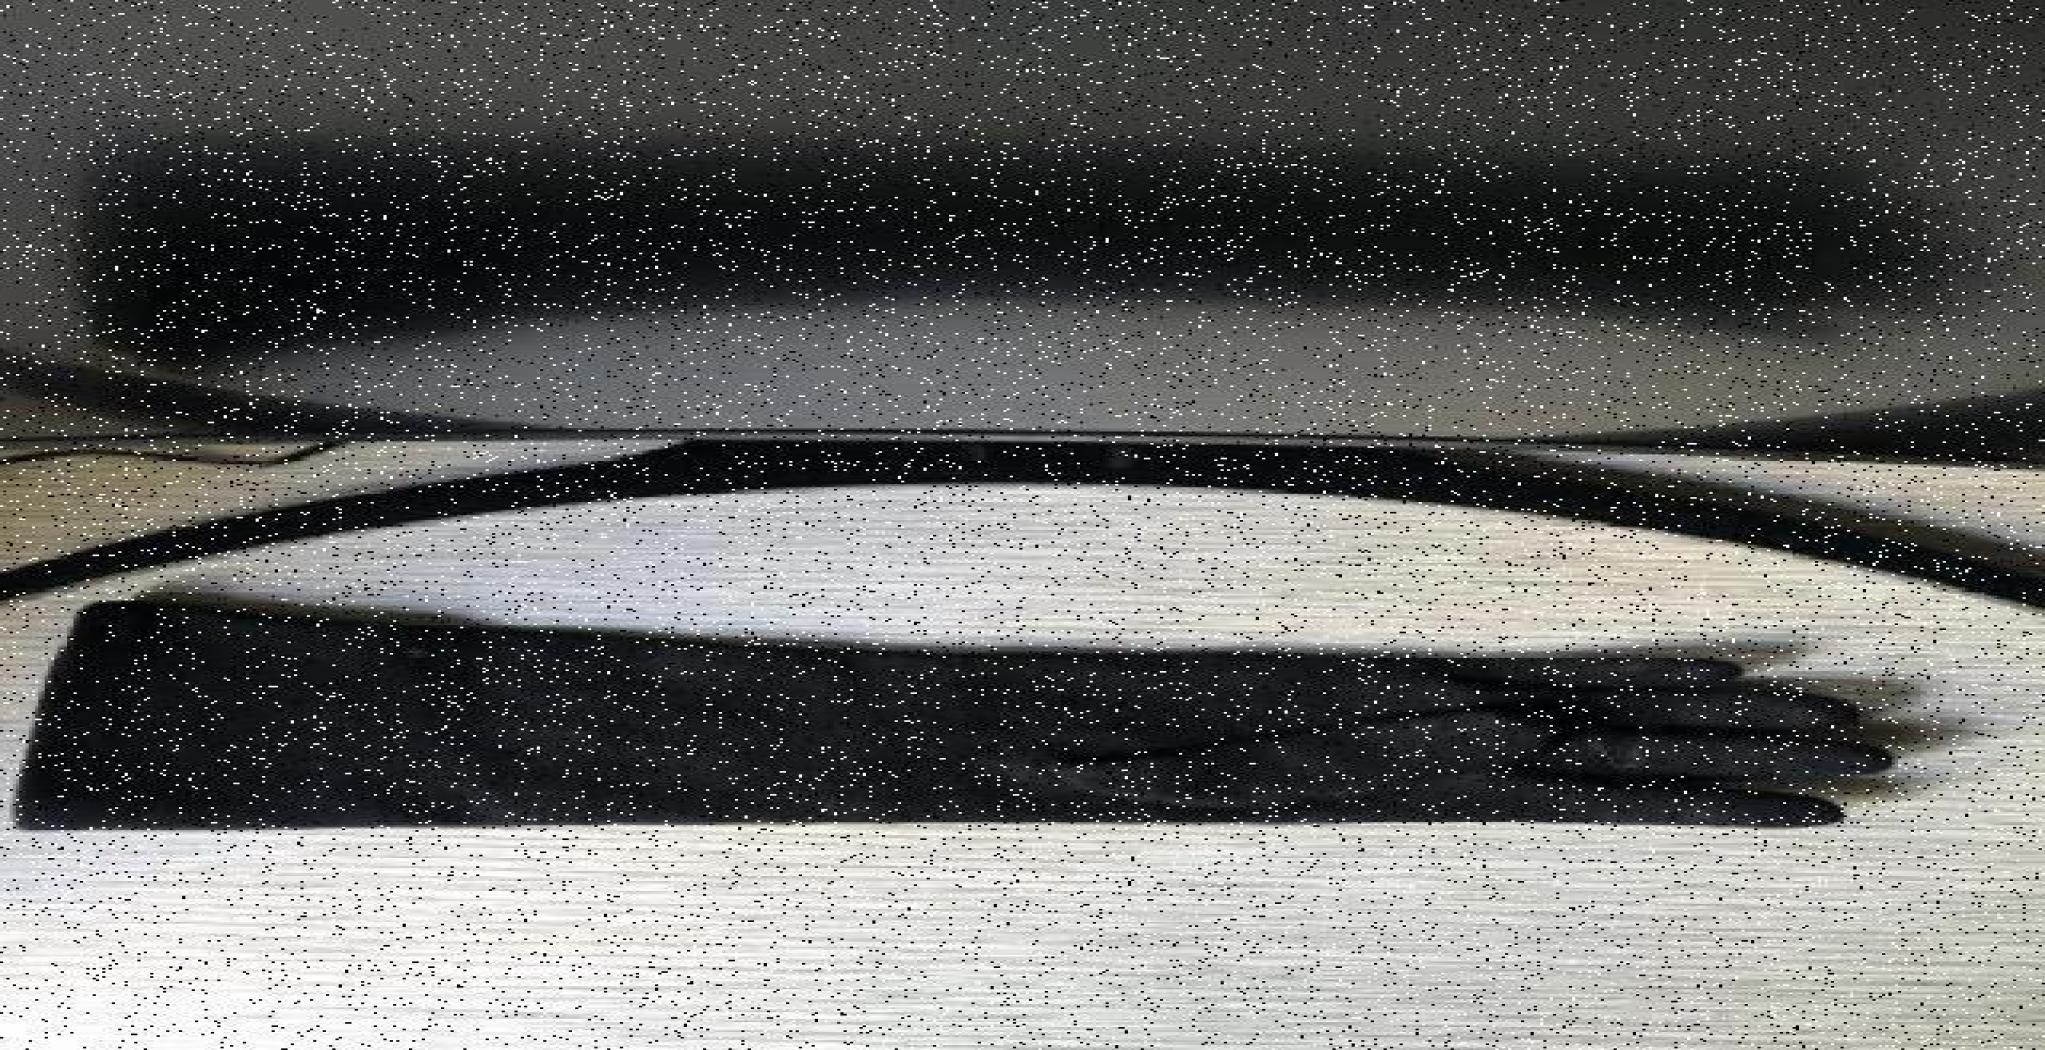gloved: (54, 589, 1973, 879)
